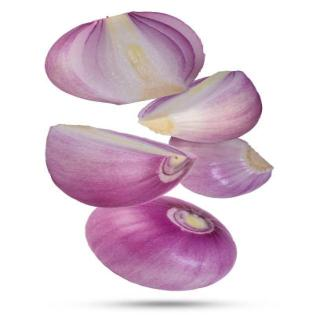Bawang Merah: (41, 9, 207, 107), (83, 195, 241, 292)
